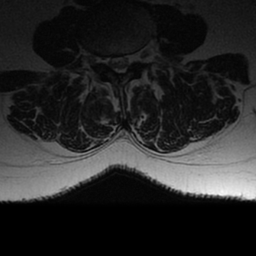CCS_normal: (114, 47, 123, 82)
LFS_normal: (130, 45, 141, 71)
LLS_normal: (123, 48, 131, 75)
RFS_normal: (97, 45, 107, 72)
RLS_stenosis: (107, 47, 114, 75)
